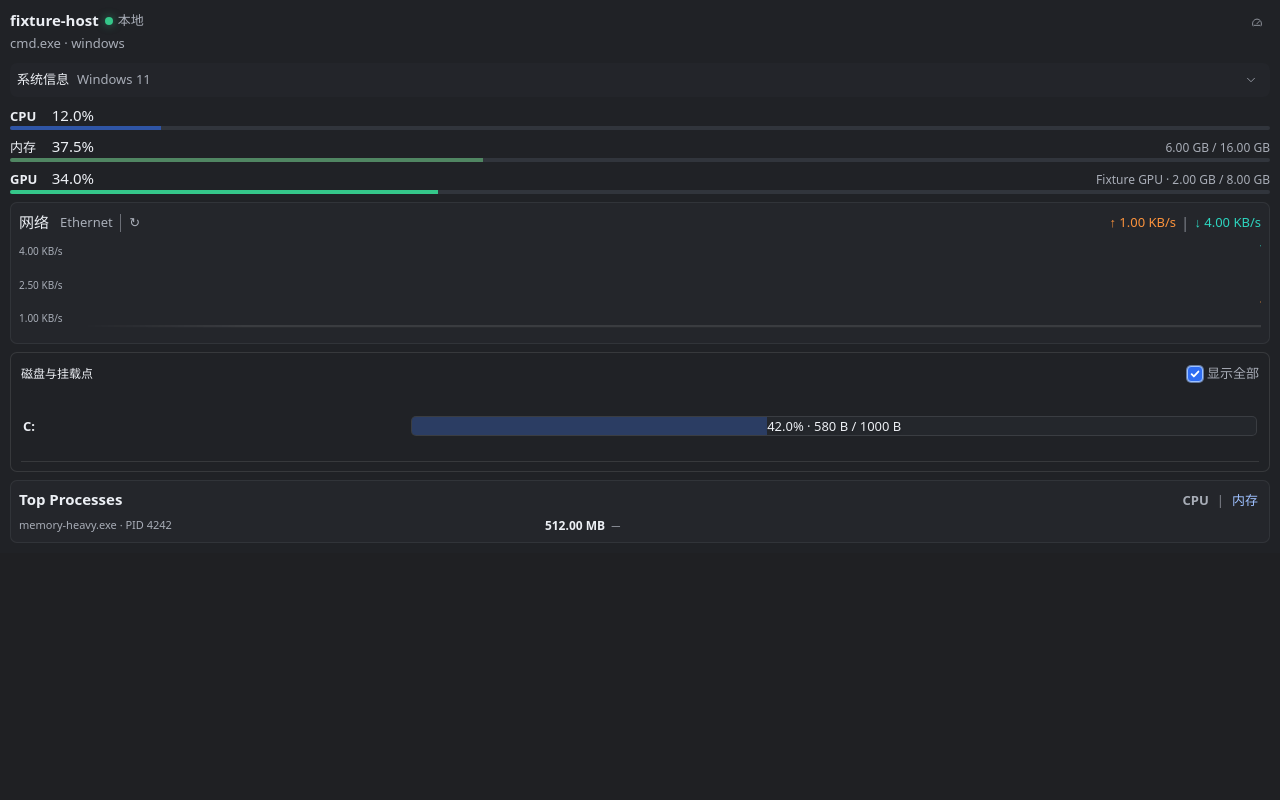
Test: LocalMonitorSidebar › shows CPU unavailable on the CPU tab without hiding Memory process rows
Expected: the number of elements with class "local-process-row" is 1, [19,517,620,534]
Expected: the element with test id "local-process-card" shows "memory-heavy.exe", [19,517,172,532]
Click the button "CPU": (1196, 500) [1180,489,1212,512]
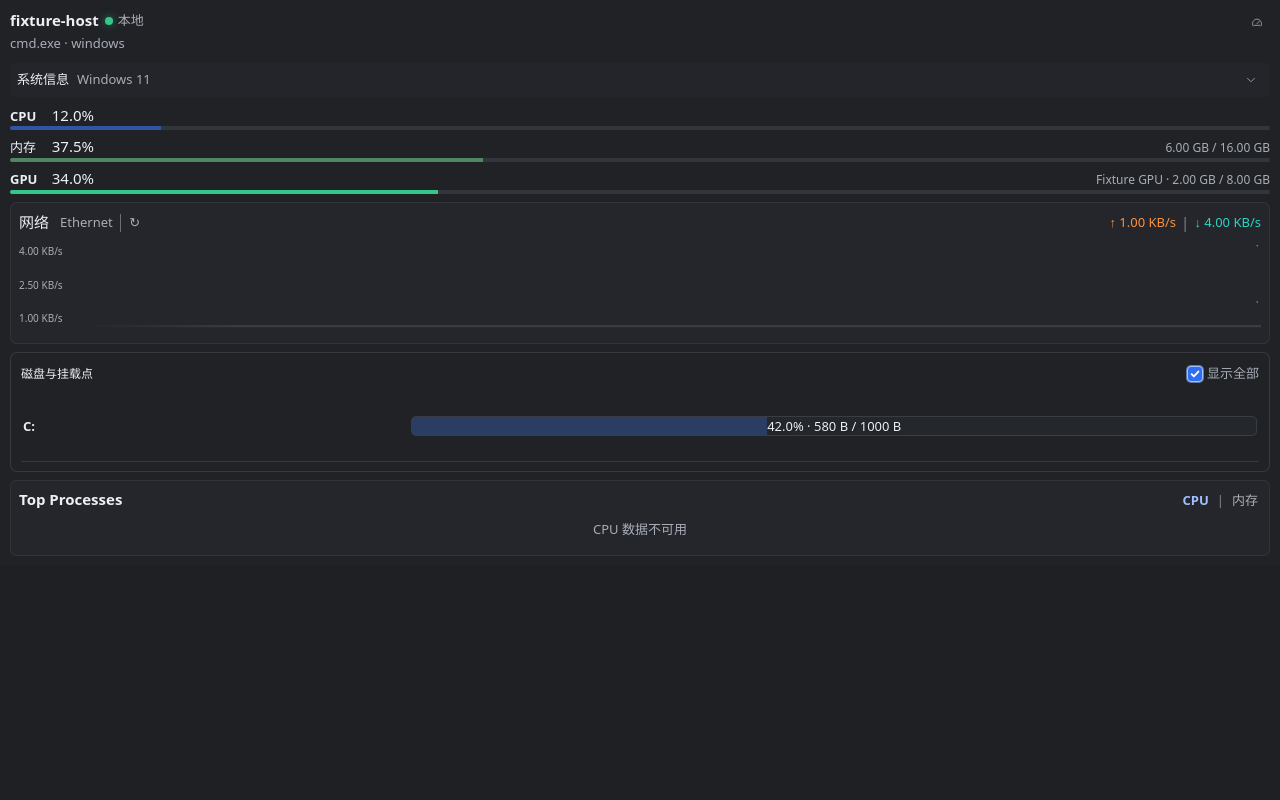
Expected: no elements with class "local-process-row" are shown
Expected: the element with test id "local-process-card" shows "CPU 数据不可用", [593,520,687,538]
